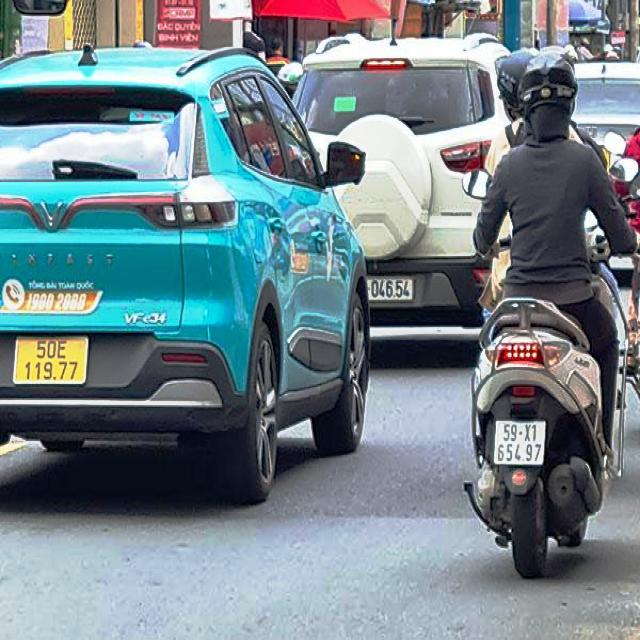license_plate: (13, 333, 92, 386), (495, 422, 545, 466)
